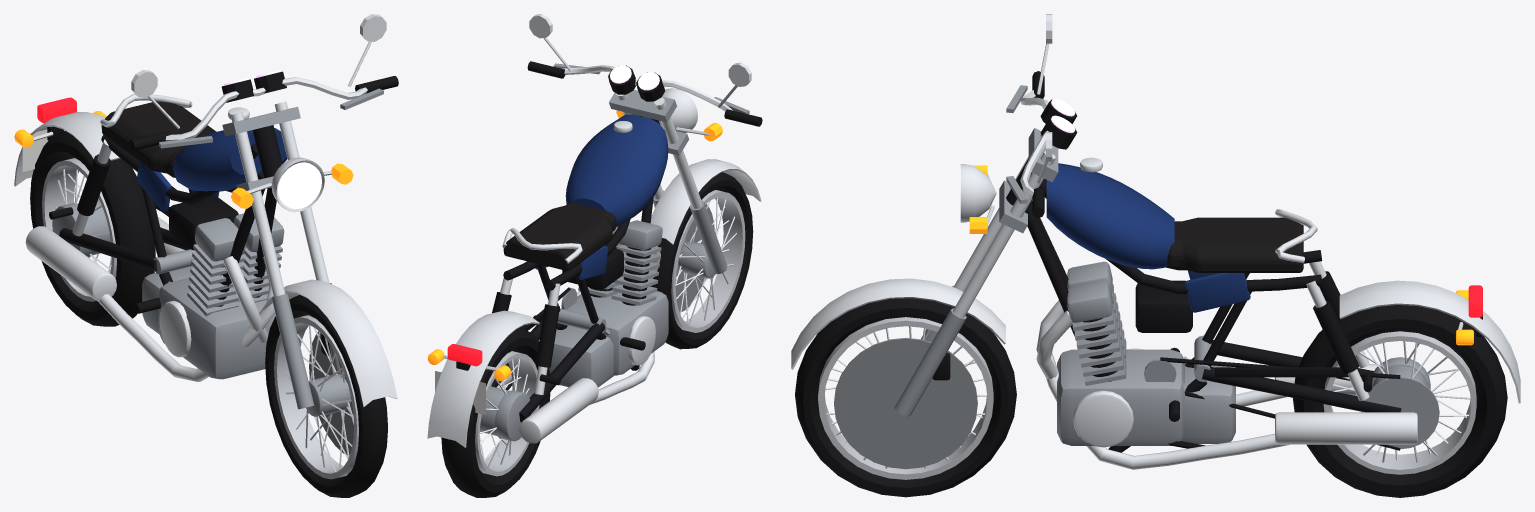
File: coast-street-250.glb
3 renders of one model, left to right at view 1: azimuth 30°, elevation 25°; view 2: azimuth 150°, elevation 25°; view 3: azimuth 270°, elevation 25°, orthographic. The views are drawn at different scales.
Parts seen in each view (by area): view 1: FrontForkMesh, Engine, Tire_R, Rim_F, Exhaust, Frame, Tire_F, FuelTank, Rim_R, Seat, Bodywork, SwingarmMesh (+2 smaller); view 2: FrontForkMesh, Engine, FuelTank, Bodywork, Rim_F, Rim_R, Seat, Tire_R, Frame, Tire_F, Exhaust, SwingarmMesh (+2 smaller); view 3: Engine, Rim_F, FrontForkMesh, Tire_R, Tire_F, Exhaust, SwingarmMesh, FuelTank, Frame, Bodywork, Seat, Rim_R (+1 smaller).
Boxes of the visible parts, left/top/right/bottom form: FrontForkMesh: left=129, top=14, right=398, bottom=409; Engine: left=142, top=196, right=284, bottom=379; Tire_R: left=30, top=131, right=155, bottom=326; Rim_F: left=274, top=315, right=358, bottom=479; Exhaust: left=25, top=217, right=275, bottom=381; Frame: left=49, top=125, right=282, bottom=313; Tire_F: left=265, top=295, right=387, bottom=497; FuelTank: left=173, top=107, right=287, bottom=191; Rim_R: left=42, top=158, right=116, bottom=301; Seat: left=101, top=101, right=216, bottom=177; Bodywork: left=14, top=94, right=219, bottom=211; SwingarmMesh: left=59, top=202, right=195, bottom=274; FrontForkMesh: left=527, top=14, right=762, bottom=273; Engine: left=549, top=220, right=668, bottom=387; FuelTank: left=565, top=114, right=668, bottom=226; Bodywork: left=427, top=227, right=608, bottom=447; Rim_F: left=671, top=190, right=745, bottom=332; Rim_R: left=475, top=351, right=539, bottom=476; Seat: left=503, top=202, right=616, bottom=270; Tire_R: left=441, top=327, right=550, bottom=497; Frame: left=492, top=115, right=660, bottom=394; Tire_F: left=650, top=172, right=753, bottom=349; Exhaust: left=496, top=245, right=660, bottom=443; SwingarmMesh: left=491, top=287, right=606, bottom=422; Engine: left=1057, top=261, right=1235, bottom=447; Rim_F: left=818, top=317, right=993, bottom=479; FrontForkMesh: left=791, top=14, right=1077, bottom=417; Tire_R: left=1293, top=305, right=1507, bottom=497; Tire_F: left=795, top=298, right=1016, bottom=497; Exhaust: left=1036, top=300, right=1417, bottom=469; SwingarmMesh: left=1144, top=335, right=1439, bottom=450; FuelTank: left=1046, top=157, right=1174, bottom=269; Frame: left=1006, top=159, right=1372, bottom=452; Bodywork: left=1184, top=209, right=1520, bottom=403; Seat: left=1167, top=217, right=1303, bottom=272; Rim_R: left=1323, top=331, right=1476, bottom=474.
Bounding box in the file's own units: 0.9 × 1.3 × 2.04.
